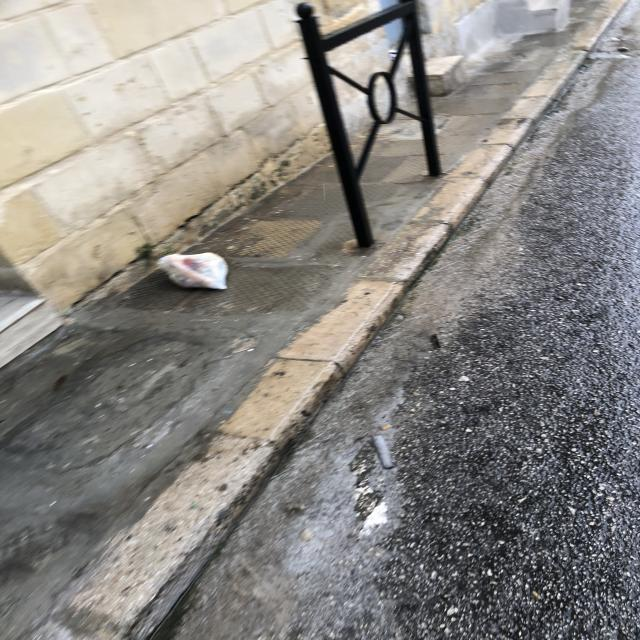Organic Waste -White Bag-: (156, 254, 231, 294)
